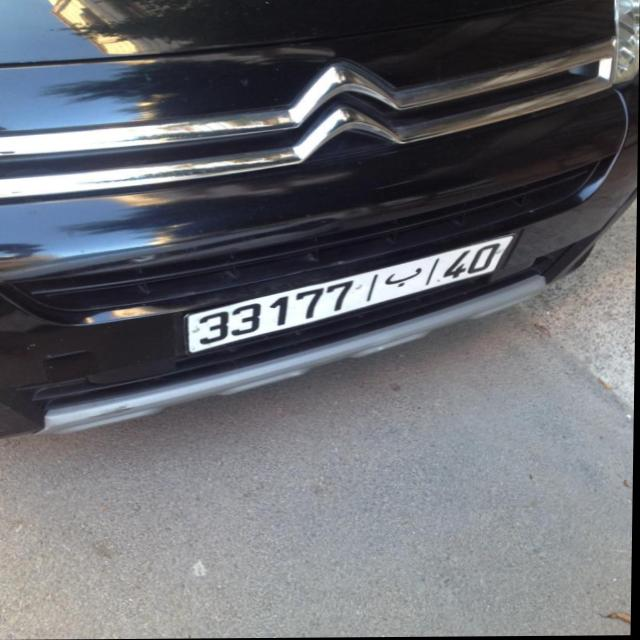License-Plate: (188, 236, 514, 353)
